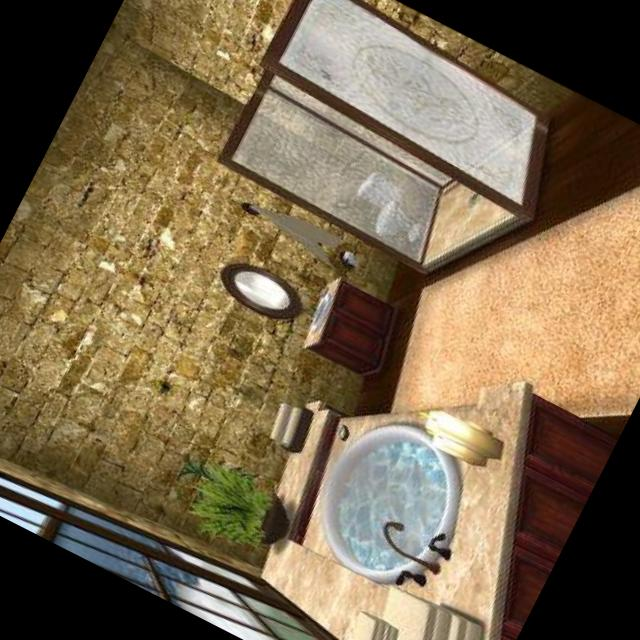cell phone: (335, 423, 352, 441)
pottedplant: (155, 442, 303, 568)
sink: (295, 401, 488, 604), (307, 292, 333, 334)
toilet: (345, 168, 438, 252)
